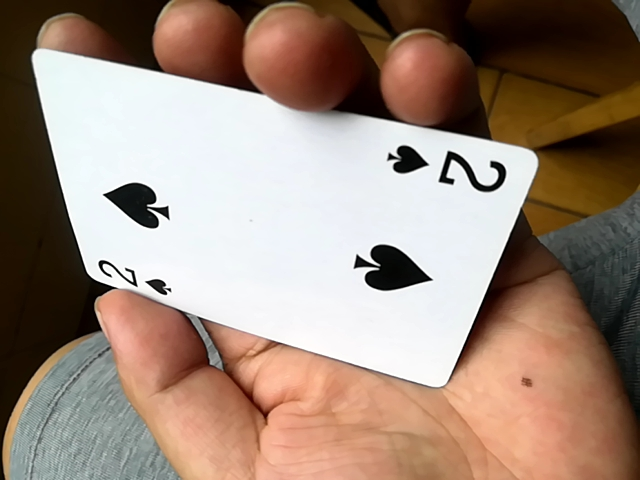ht 2: (38, 40, 541, 390)
